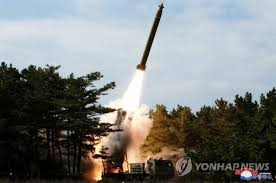ten_lua: (138, 1, 167, 72)
